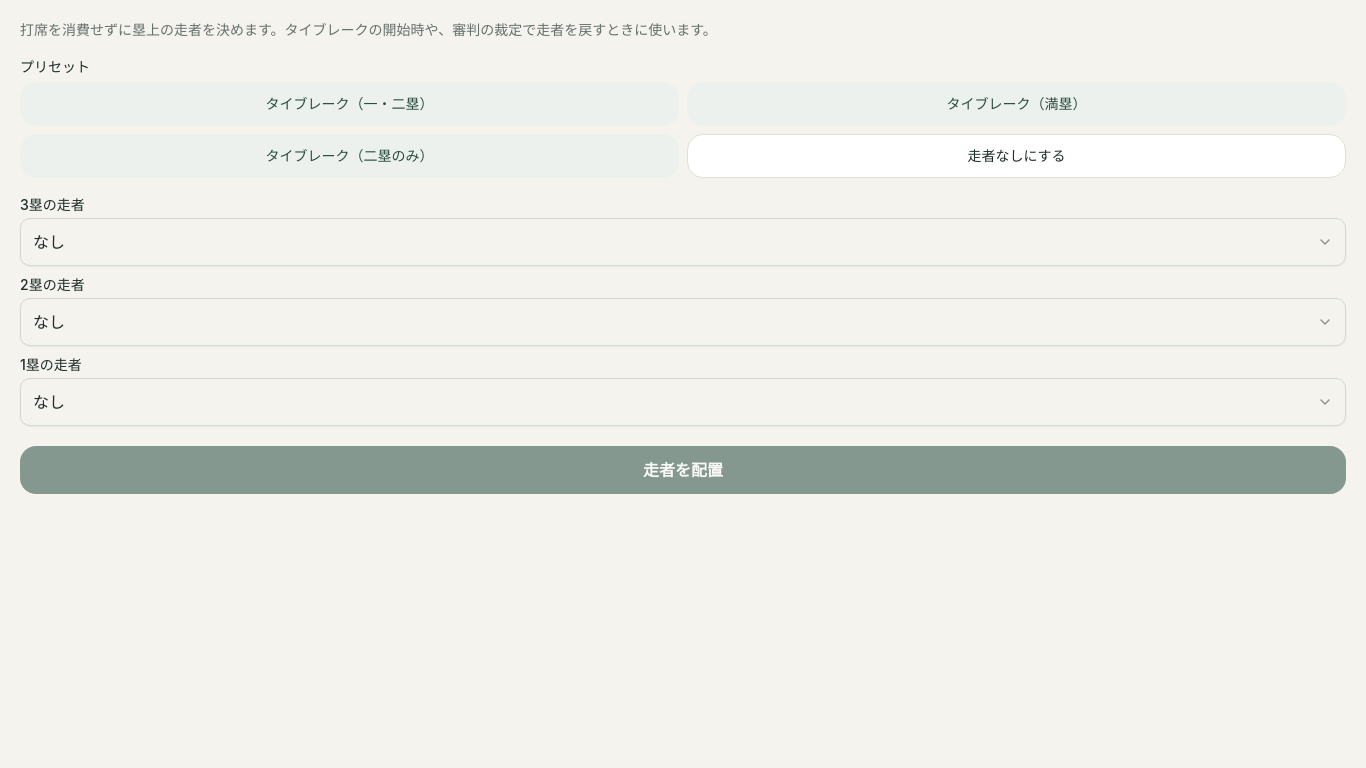
Test: runner placement sheet › refuses to put one runner on two bases
Step 1. Click the dropdown named "1塁の走者" → click(49, 402), box [20,378,1346,426]
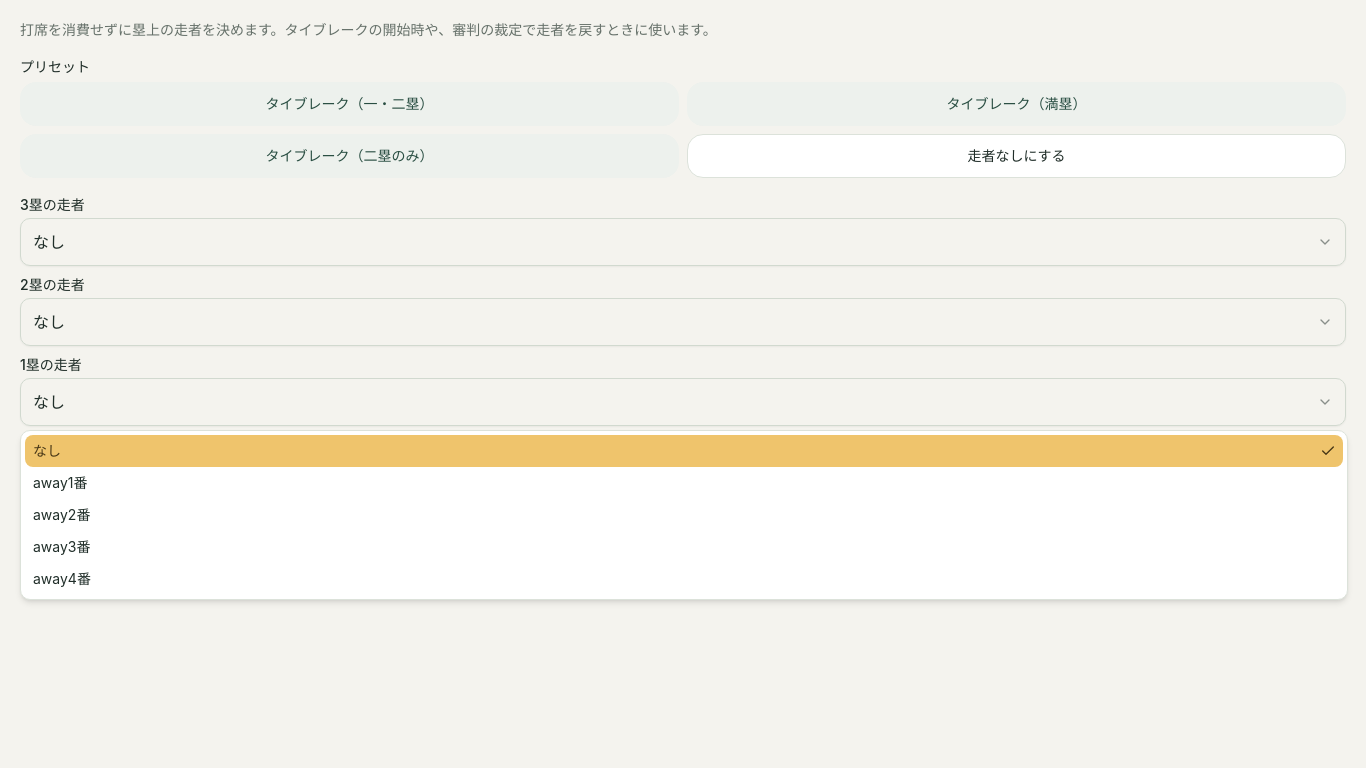
Step 2. Click the option "away3番" → click(62, 546), box [33,538,90,555]
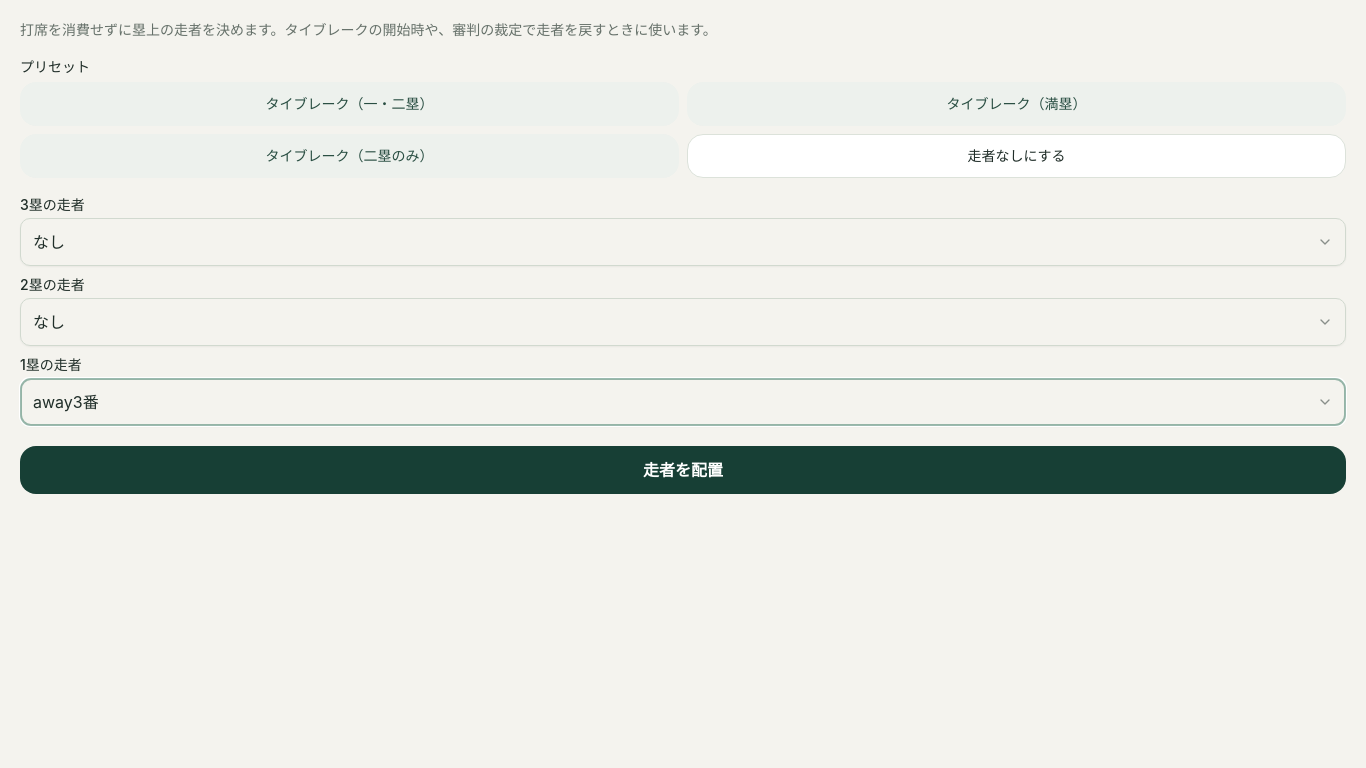
Step 3. Click the dropdown named "2塁の走者" → click(49, 322), box [20,298,1346,346]
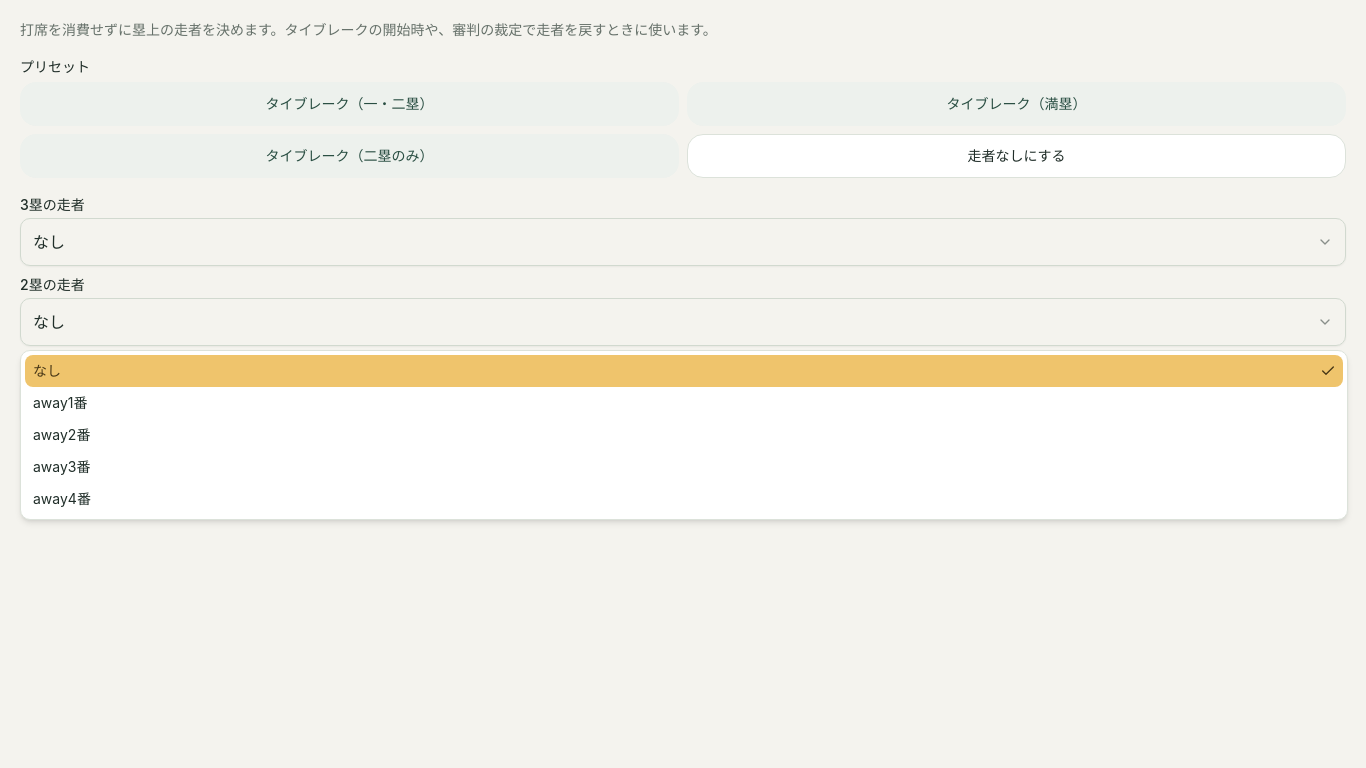
Step 4. Click the option "away3番" → click(62, 466), box [33,458,90,475]
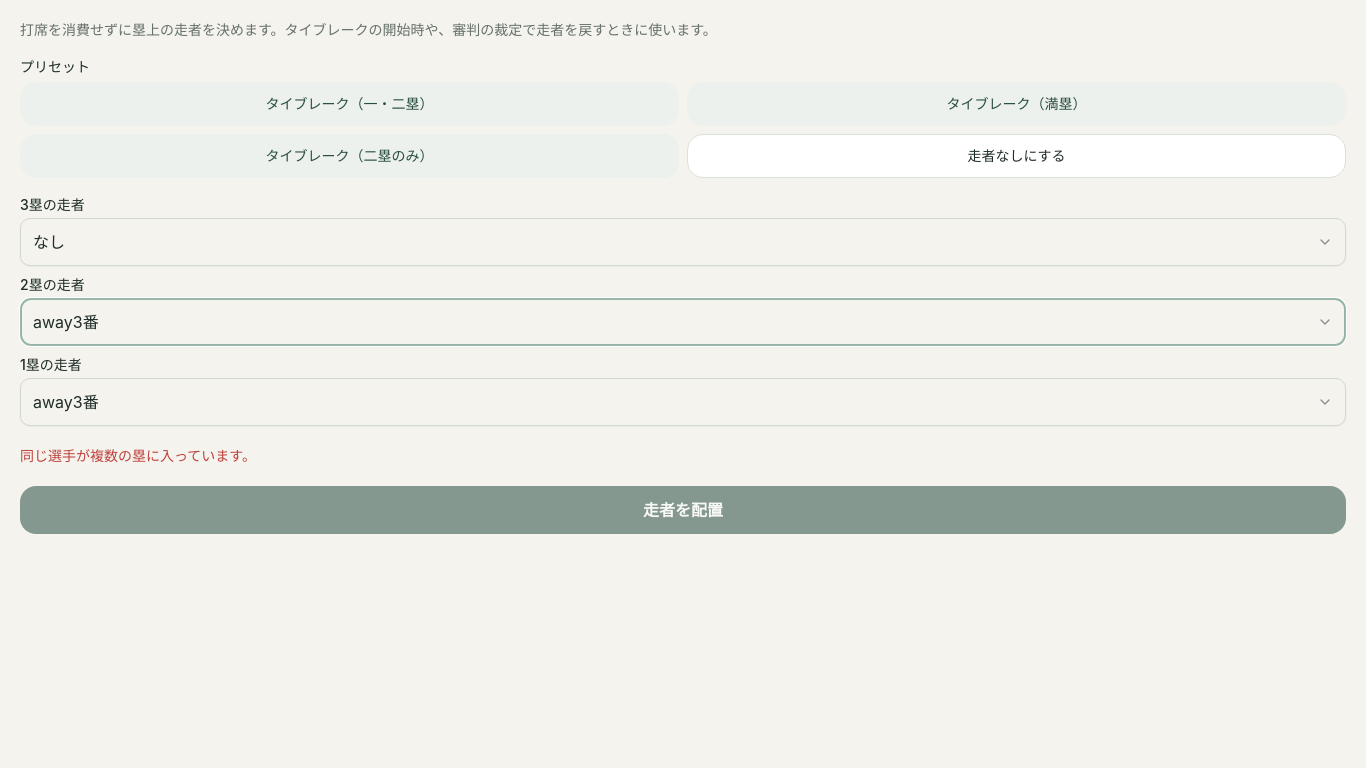
Expected: the button "走者を配置" is disabled, [20,486,1346,534]
